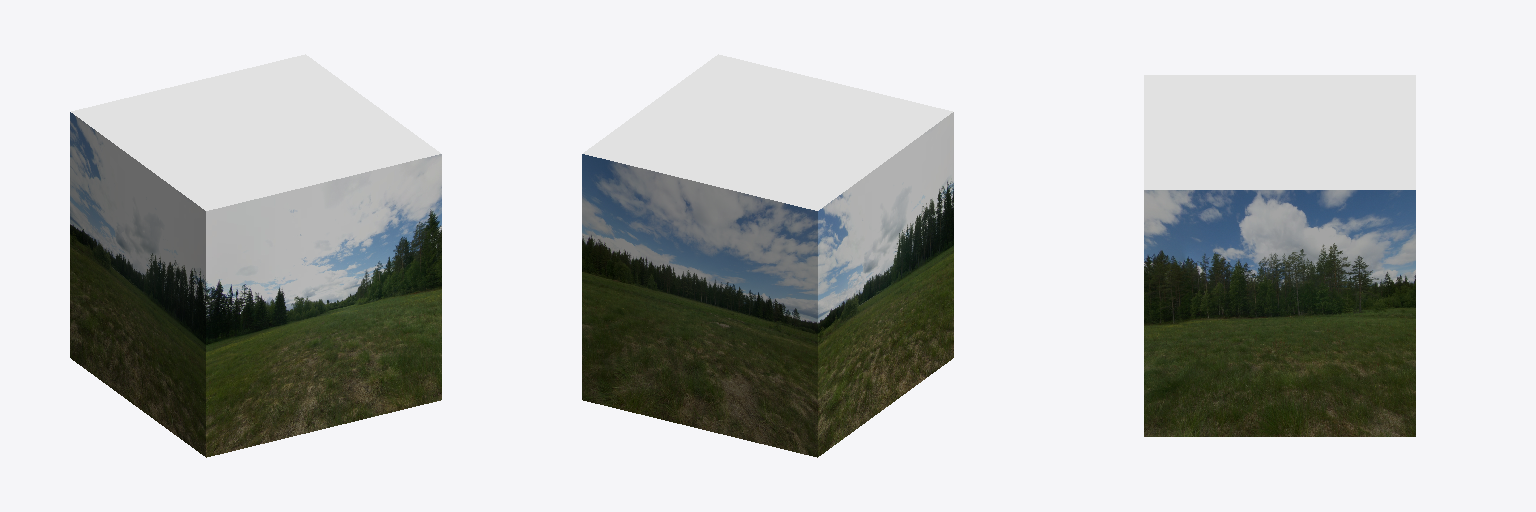
3 renders of one model, left to right at view 1: azimuth 30°, elevation 25°; view 2: azimuth 150°, elevation 25°; view 3: azimuth 270°, elevation 25°, orthographic.
Bounding box in the file's own units: 1 × 1 × 1.
Materials: 6 (4 with a texture image).